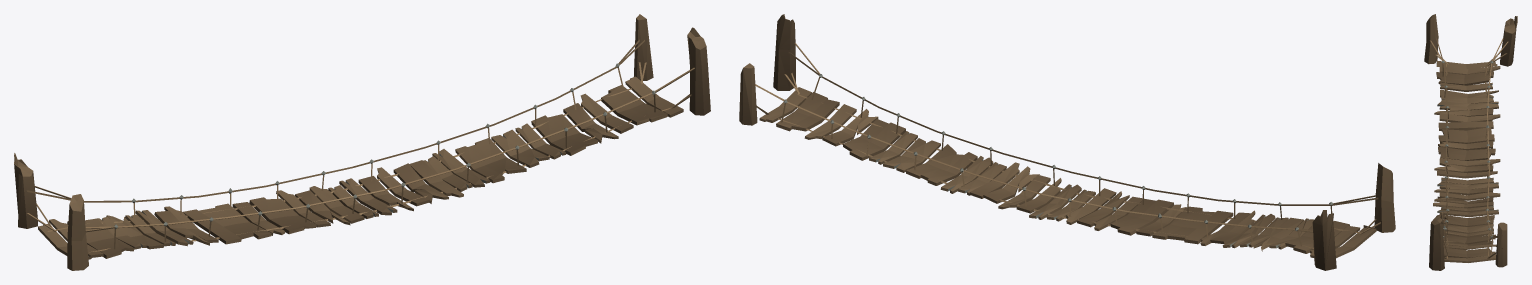
The model's file is ZLP_Build_F_3.FBX.
The picture shows the model from 3 angles, left to right: view 1: azimuth 30°, elevation 25°; view 2: azimuth 150°, elevation 25°; view 3: azimuth 270°, elevation 25°; orthographic projection. The views are drawn at different scales.
Visible parts, largest first — view 1: ZLP_Build_F_3; view 2: ZLP_Build_F_3; view 3: ZLP_Build_F_3.
Boxes of the visible parts, x1,y1,x2,y2 form: ZLP_Build_F_3: [14, 14, 710, 270]; ZLP_Build_F_3: [739, 14, 1395, 270]; ZLP_Build_F_3: [1424, 14, 1517, 270].
Bounding box in the file's own units: 1025 × 175 × 191.
